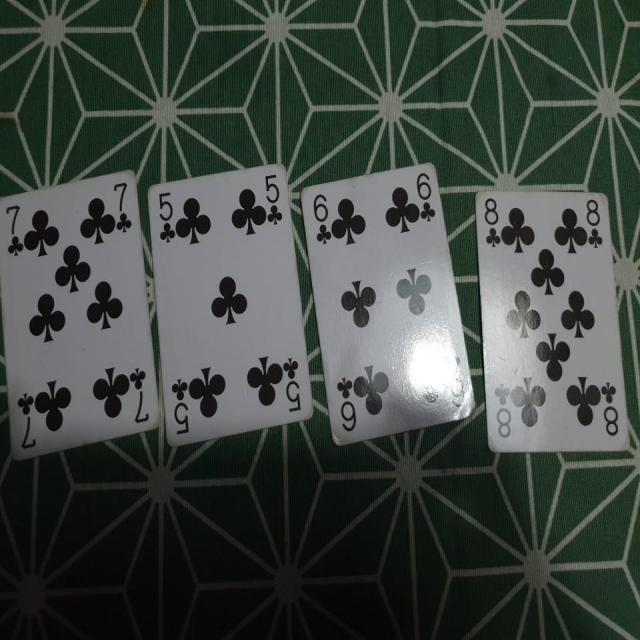5 Trefoils: (146, 159, 315, 448)
6 Trefoils: (299, 161, 478, 446)
7 Trefoils: (1, 164, 158, 465)
8 Trefoils: (474, 188, 632, 457)
